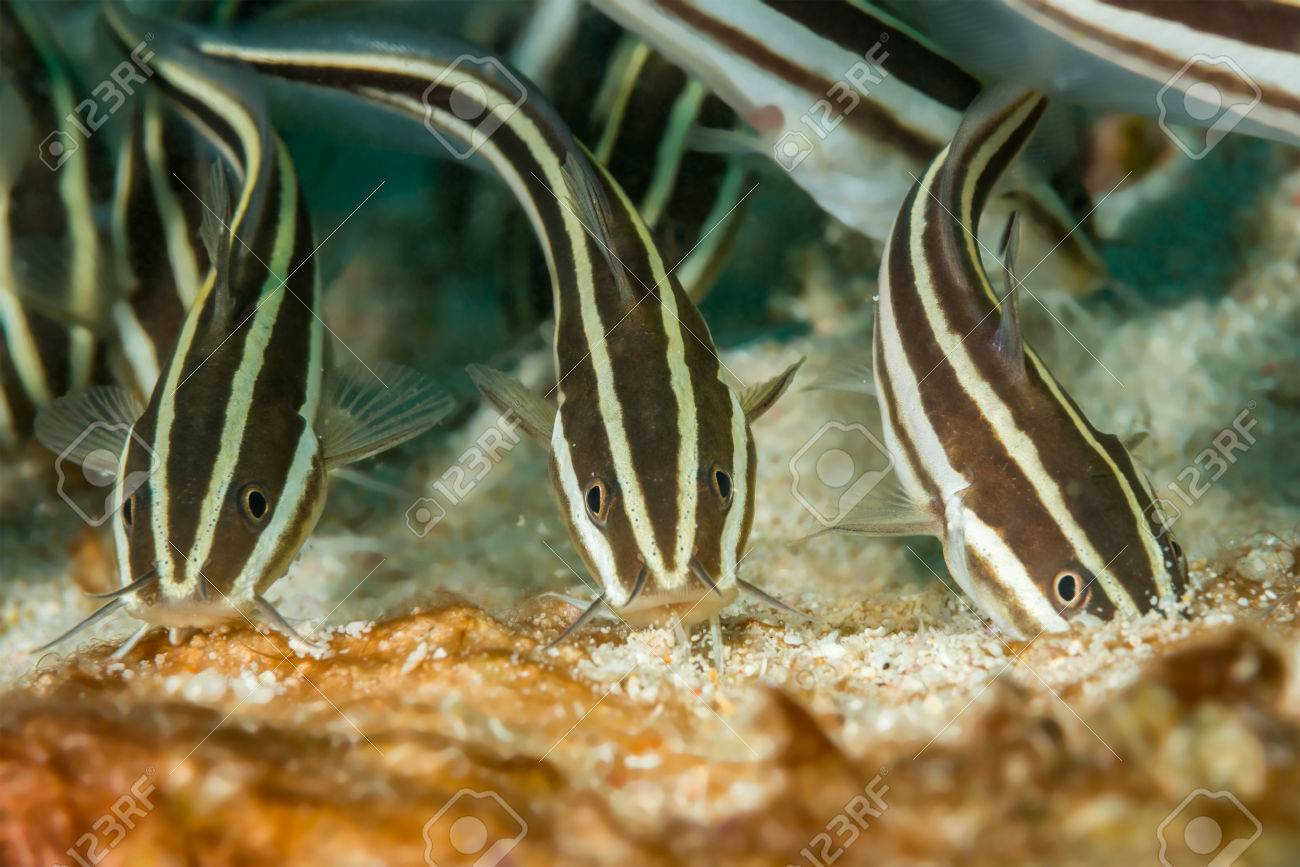gonzui: (423, 1, 831, 649), (872, 79, 1231, 652), (93, 1, 391, 630)
